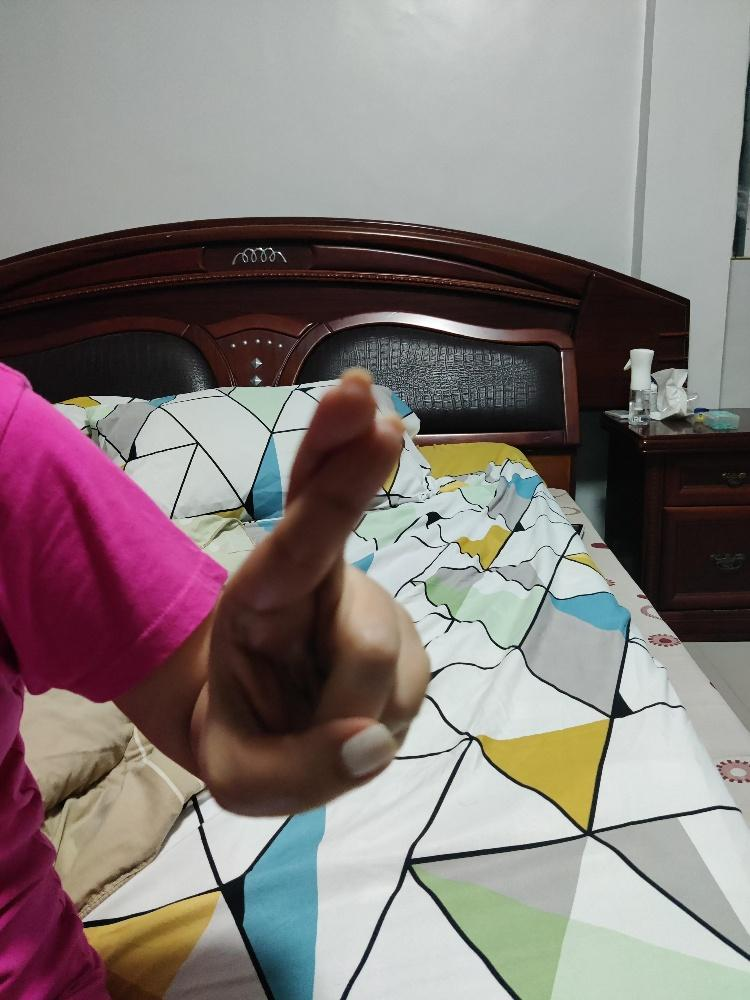r: (204, 363, 433, 819)
